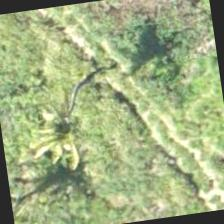Kelapa_Sawit: (0, 85, 102, 186)
